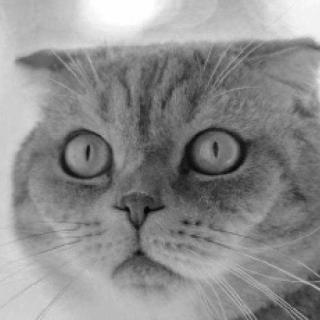cat: (6, 31, 320, 320)
nose: (112, 184, 161, 233)
